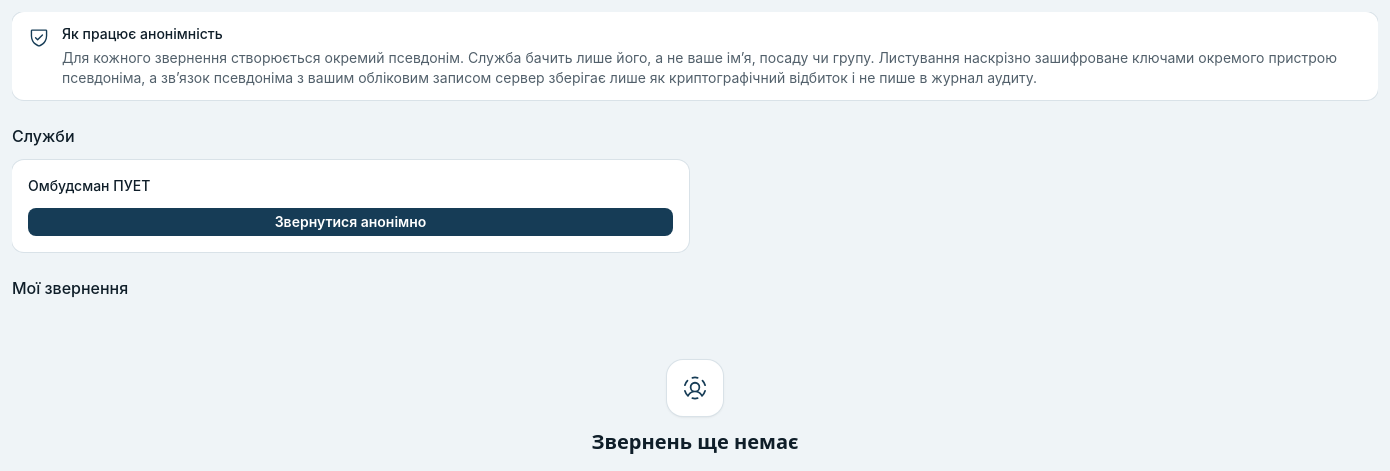
anonymous appeals › anonymity: the appeal is opened as the person, then every room request is made as the pseudonym
Click the button "Звернутися анонімно": x=350, y=222 [28,208,673,236]
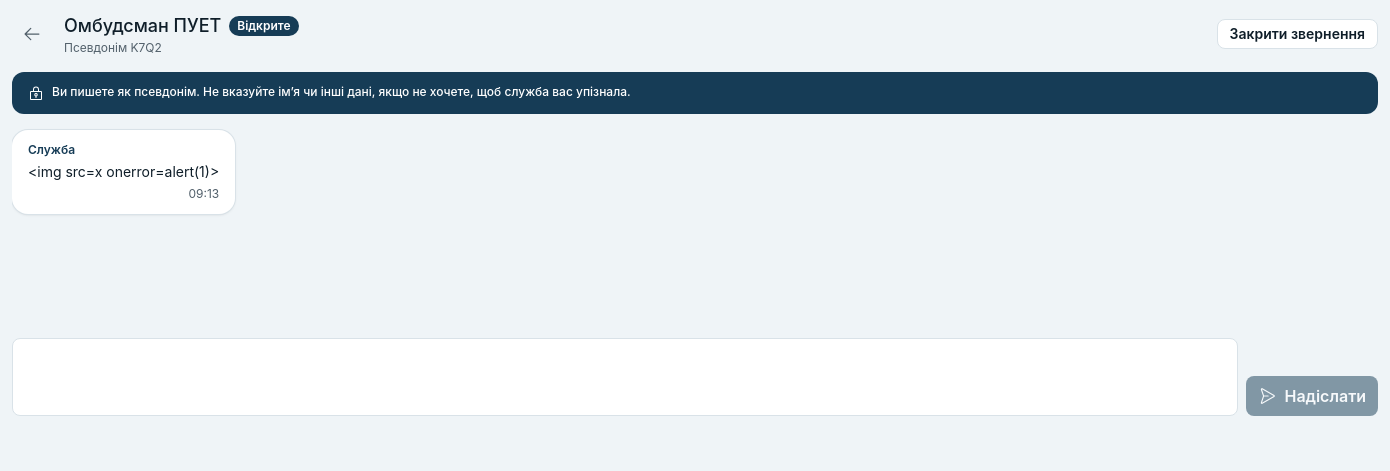
Now the text "Псевдонім K7Q2" is shown, box [64,40,162,55]
